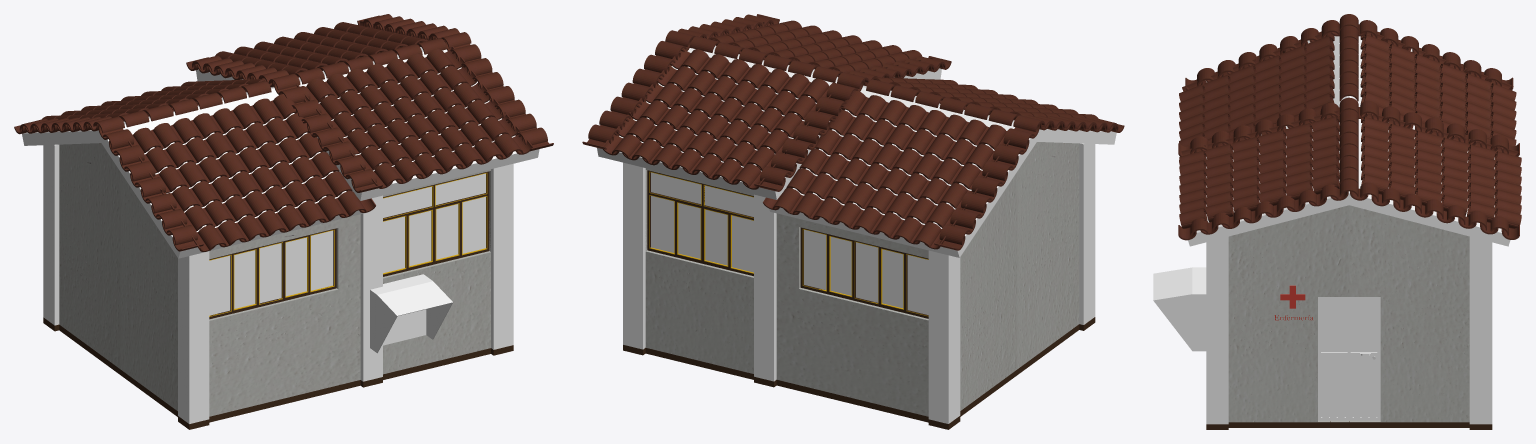
File: Enfermeria.fbx
3 views of the same model, side by side, from view 1: azimuth 30°, elevation 25°; view 2: azimuth 150°, elevation 25°; view 3: azimuth 270°, elevation 25° (orthographic). The views are drawn at different scales.
Parts seen in each view (by area): view 1: Tejas.017, Pared.007, Tejas.004, Pared.004, Pared.003, Puerta.004, Puerta.005, Pared.005, Pared.012, Tejas.006, Tejas.003, Pared.009 (+23 smaller); view 2: Tejas.019, Pared.008, Tejas.006, Pared.003, Pared.006, Pared.004, Puerta.002, Puerta.003, Pared.011, Tejas.004, Tejas.005, Pared.010 (+20 smaller); view 3: Pared.001, Pared.002, Tejas.004, Tejas.006, Tejas.017, Tejas.019, Pared.010, Pared.009, Puerta.013, Pared.030, Tejas.015, Tejas.003 (+25 smaller).
Boxes of the visible parts, box(x1,y1,x2,y2) form: Tejas.017: box(133, 94, 366, 250); Pared.007: box(209, 214, 360, 416); Tejas.004: box(306, 49, 523, 186); Pared.004: box(59, 143, 120, 369); Pared.003: box(120, 172, 177, 410); Puerta.004: box(383, 171, 489, 276); Puerta.005: box(209, 228, 336, 319); Pared.005: box(383, 169, 490, 374); Pared.012: box(178, 251, 209, 423); Tejas.006: box(215, 22, 427, 74); Tejas.003: box(296, 46, 532, 188); Pared.009: box(489, 163, 513, 349); Tejas.019: box(772, 90, 1006, 247); Pared.008: box(776, 213, 928, 416); Tejas.006: box(612, 49, 829, 187); Pared.003: box(1017, 142, 1079, 368); Pared.006: box(645, 168, 753, 373); Pared.004: box(960, 171, 1017, 410); Puerta.002: box(647, 170, 753, 276); Puerta.003: box(800, 227, 928, 318); Pared.011: box(928, 250, 960, 423); Tejas.004: box(708, 20, 922, 73); Tejas.005: box(602, 48, 831, 189); Pared.010: box(623, 162, 647, 349); Pared.001: box(1349, 205, 1469, 422); Pared.002: box(1228, 205, 1349, 422); Tejas.004: box(1179, 116, 1337, 225); Tejas.006: box(1363, 117, 1521, 225); Tejas.017: box(1179, 35, 1331, 166); Tejas.019: box(1363, 34, 1516, 147); Pared.010: box(1469, 236, 1492, 424); Pared.009: box(1206, 236, 1228, 424); Puerta.013: box(1321, 355, 1377, 417); Pared.030: box(1346, 119, 1510, 246); Tejas.015: box(1339, 97, 1358, 196); Tejas.003: box(1181, 110, 1339, 228).
Bounding box in the file's own units: 664 × 444 × 588.
